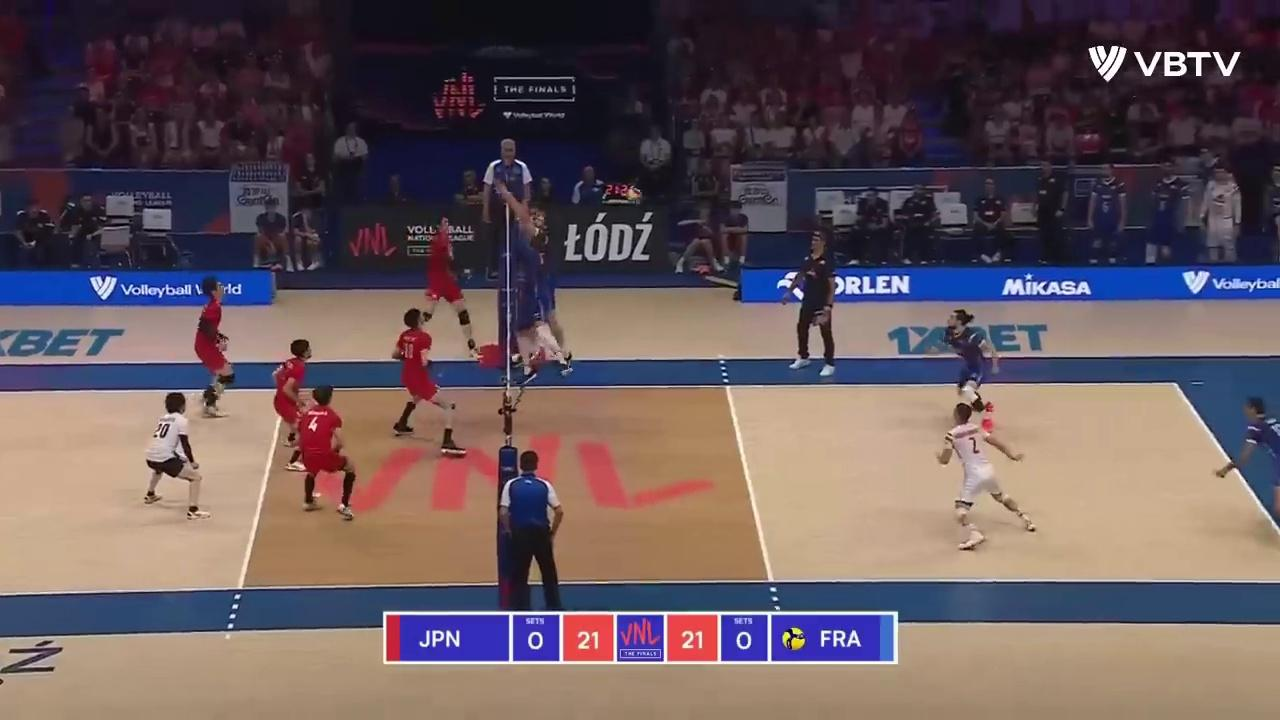ball: (627, 187, 644, 202)
